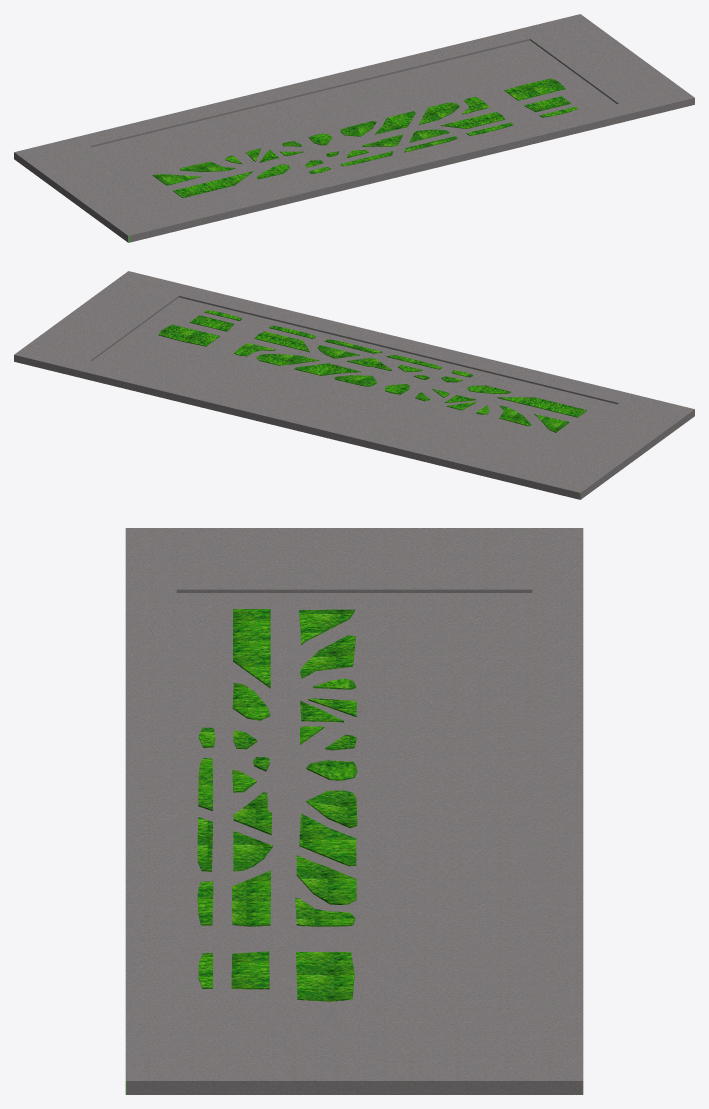
The model's file is pista.obj.
3 views of the same model, one above another, from view 1: azimuth 30°, elevation 25°; view 2: azimuth 150°, elevation 25°; view 3: azimuth 270°, elevation 25° (orthographic). The views are drawn at different scales.
Parts seen in each view (by area): view 1: pCube32; view 2: pCube32; view 3: pCube32.
Part boxes in pixels (box(x1,y1,x2,y2)): pCube32: box(14, 14, 694, 242); pCube32: box(14, 271, 694, 499); pCube32: box(125, 528, 583, 1094).
Size of the model in its own units: 9.67 by 0.1134 by 3.38.
Materials: 1 (1 with a texture image).
